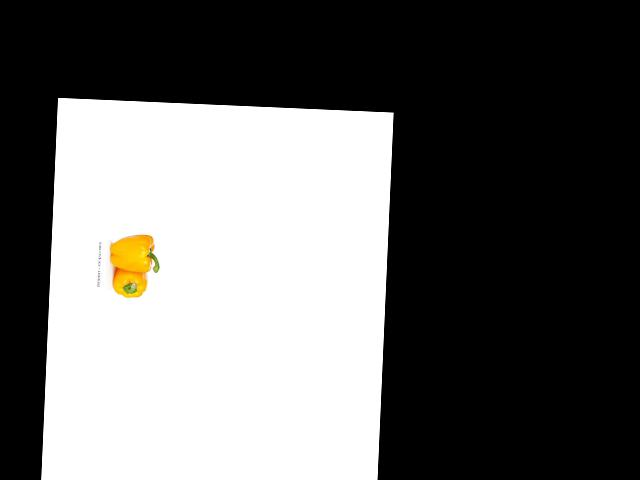bell_pepper: (110, 266, 150, 299)
